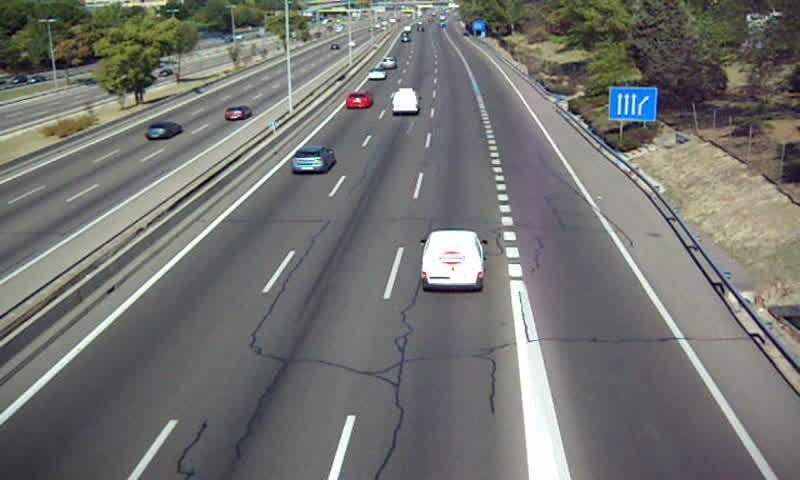car: (291, 145, 335, 174), (346, 91, 370, 109), (368, 68, 386, 81), (381, 56, 394, 69)
van: (421, 230, 486, 290), (391, 87, 418, 115)
